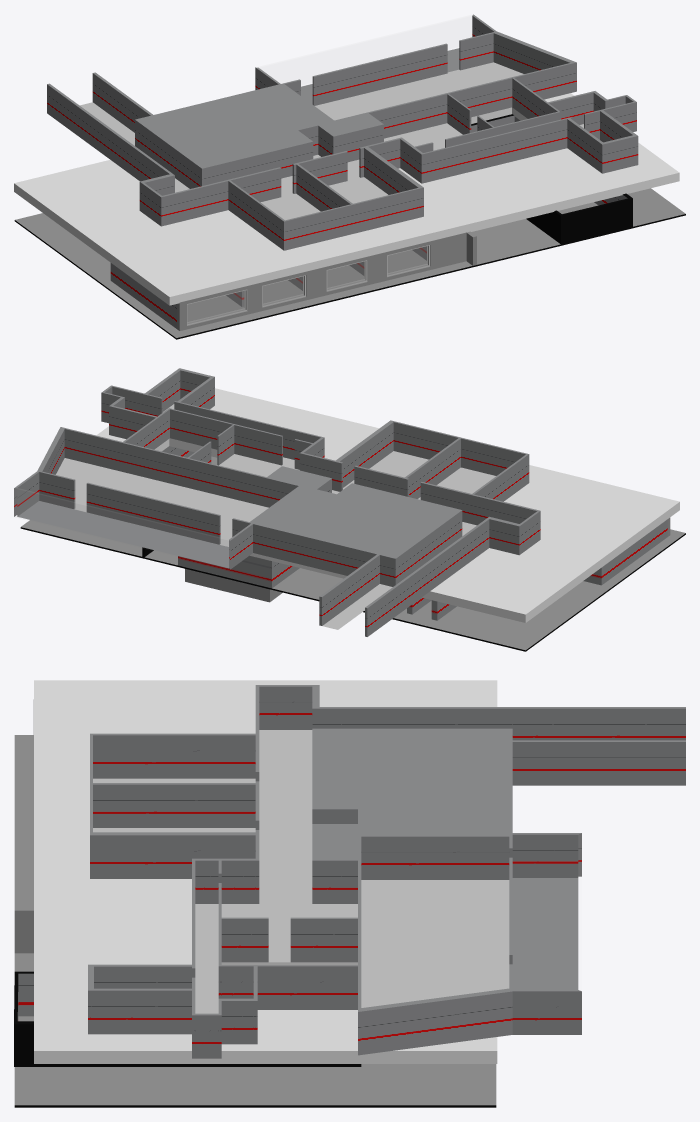
File: niveaux_complet.FBX
The picture shows the model from 3 angles, top to bottom: view 1: azimuth 30°, elevation 25°; view 2: azimuth 150°, elevation 25°; view 3: azimuth 270°, elevation 25°; orthographic projection. The views are drawn at different scales.
Visible parts, largest first — view 1: Plane002, Box009, Box004, Box005, Box006, Box008, Box007; view 2: Plane002, Box009, Box004; view 3: Plane002, Box009, Box004.
Part boxes in pixels (x1=…): Plane002: x1=47, y1=14, x2=638, y2=250; Box009: x1=14, y1=93, x2=679, y2=305; Box004: x1=14, y1=114, x2=685, y2=339; Box005: x1=187, y1=289, x2=247, y2=325; Box006: x1=262, y1=275, x2=305, y2=306; Box008: x1=387, y1=245, x2=429, y2=276; Box007: x1=326, y1=260, x2=367, y2=291; Plane002: x1=14, y1=368, x2=540, y2=636; Box009: x1=96, y1=388, x2=679, y2=622; Box004: x1=20, y1=446, x2=685, y2=651; Plane002: x1=88, y1=685, x2=685, y2=1058; Box009: x1=34, y1=680, x2=497, y2=1063; Box004: x1=14, y1=699, x2=496, y2=1107.
Size of the model in its own units: 50.82 by 7.73 by 38.15.
